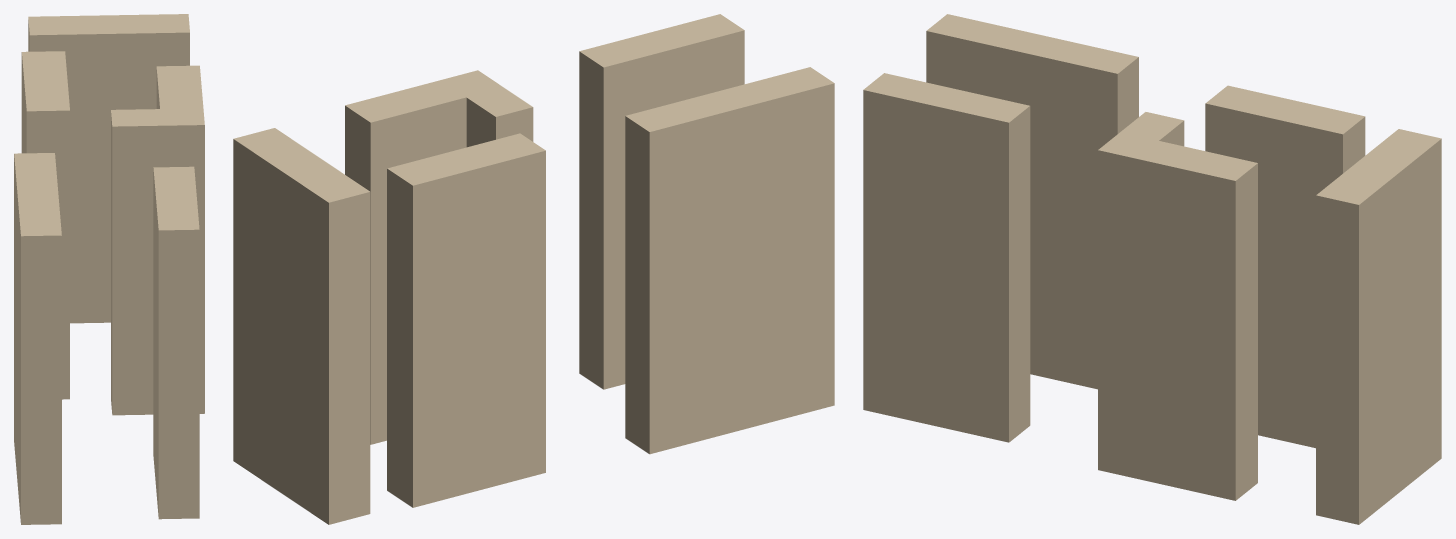
Rendered from -18_18-estimated-coarse.glb.
3 views of the same model, side by side, from view 1: azimuth 30°, elevation 25°; view 2: azimuth 150°, elevation 25°; view 3: azimuth 270°, elevation 25° (orthographic). The views are drawn at different scales.
Bounding box in the file's own units: 142 × 111 × 182.
